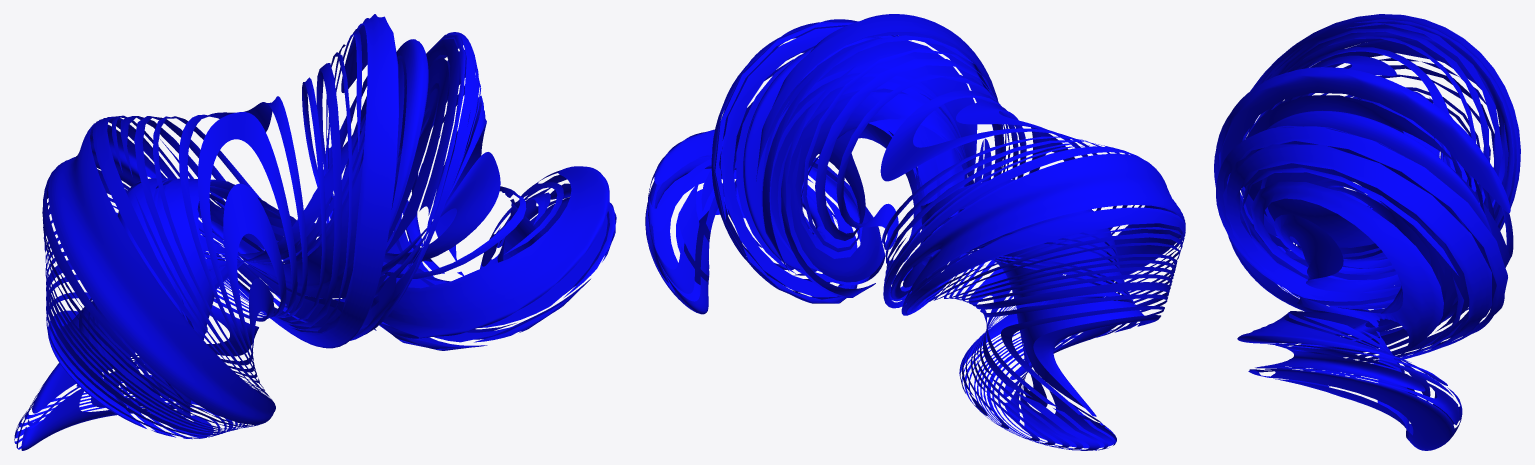
Rendered from Spiral3.fbx.
3 views of the same model, side by side, from view 1: azimuth 30°, elevation 25°; view 2: azimuth 150°, elevation 25°; view 3: azimuth 270°, elevation 25° (orthographic). The views are drawn at different scales.
Visible parts, largest first — view 1: Boole; view 2: Boole; view 3: Boole.
Part boxes in pixels (left/top/right/bottom): Boole: left=14, top=14, right=616, bottom=450; Boole: left=645, top=14, right=1185, bottom=450; Boole: left=1214, top=14, right=1520, bottom=450.
Size of the model in its own units: 1432 by 925 by 736.
